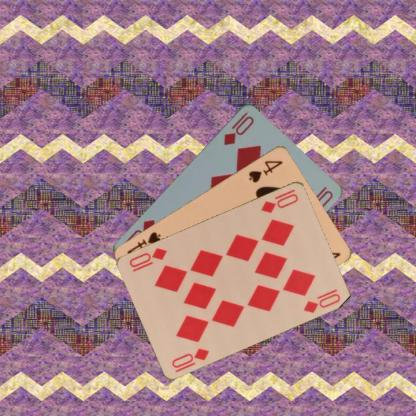10d: (221, 109, 255, 146), (258, 186, 300, 214), (169, 345, 211, 369)
4s: (246, 157, 284, 184)
